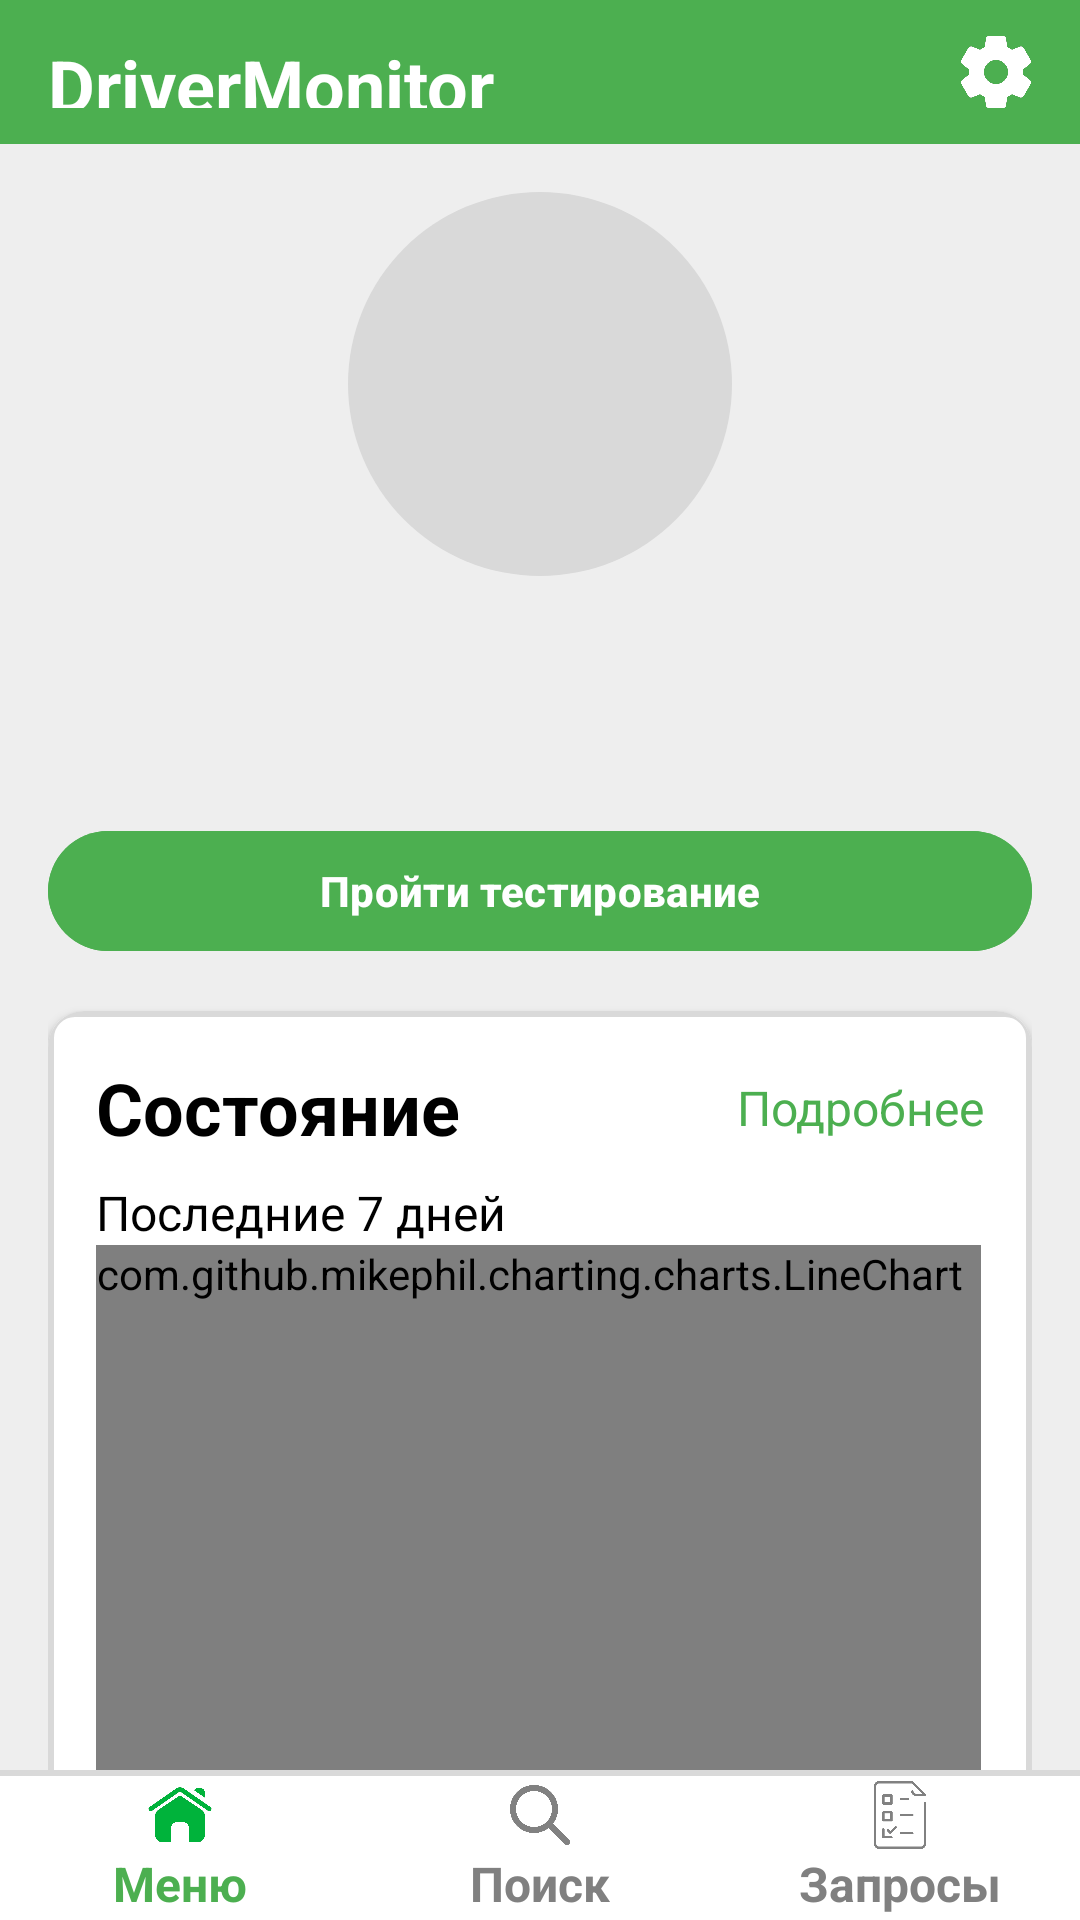

Screen size 1080w x 1920h. Icon name, then its box in pixels as (x1, y1, x2, y2):
home: (148, 1787, 212, 1842)
tests: (874, 1781, 926, 1849)
Настройки: (961, 36, 1031, 108)
